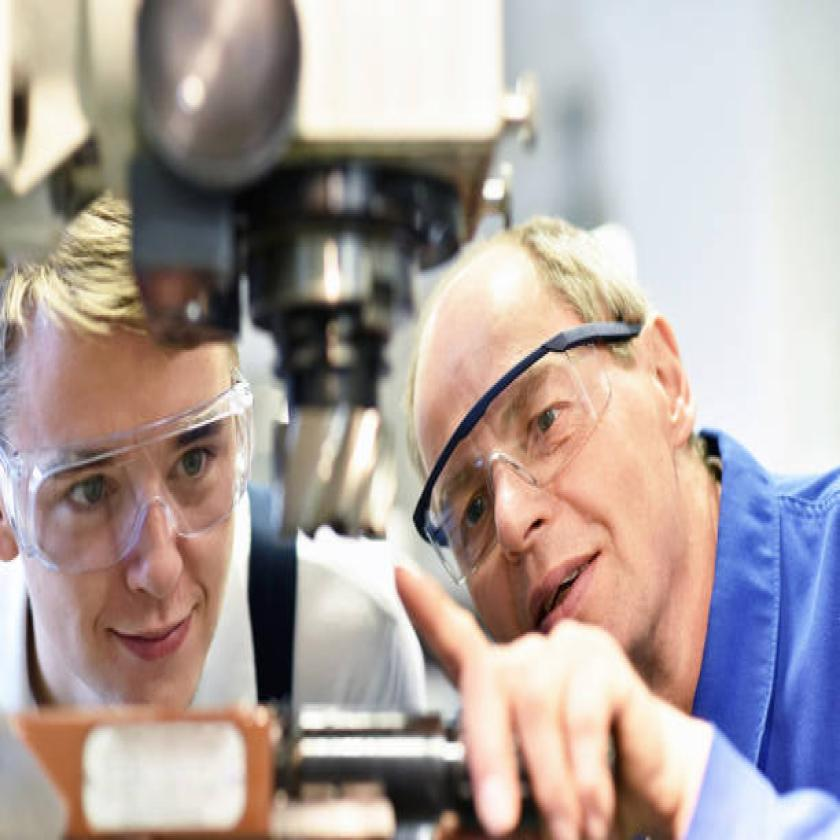Sin_casco: (384, 195, 716, 683), (0, 238, 259, 700)
